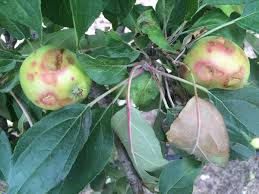damaged_apple: (18, 44, 96, 110), (179, 39, 253, 99)
